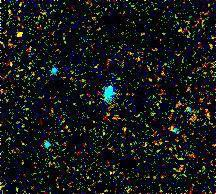star: (5, 21, 35, 51)
